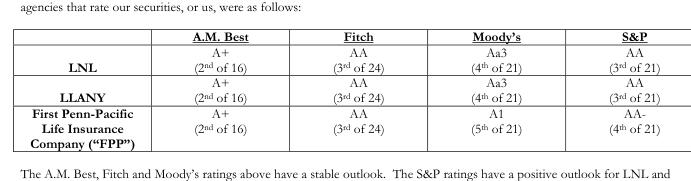table: (29, 28, 659, 150)
table column: (426, 28, 564, 150), (289, 28, 426, 150), (29, 28, 162, 150), (162, 28, 289, 150), (564, 28, 659, 150)
table column header: (29, 28, 659, 43)
table row: (29, 105, 659, 150), (29, 43, 659, 74), (29, 74, 659, 105), (29, 28, 659, 43)
